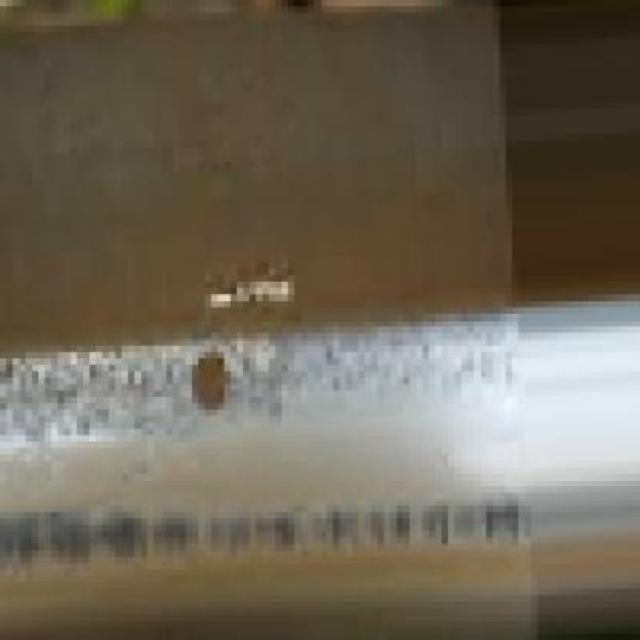defective: (115, 239, 365, 469)
